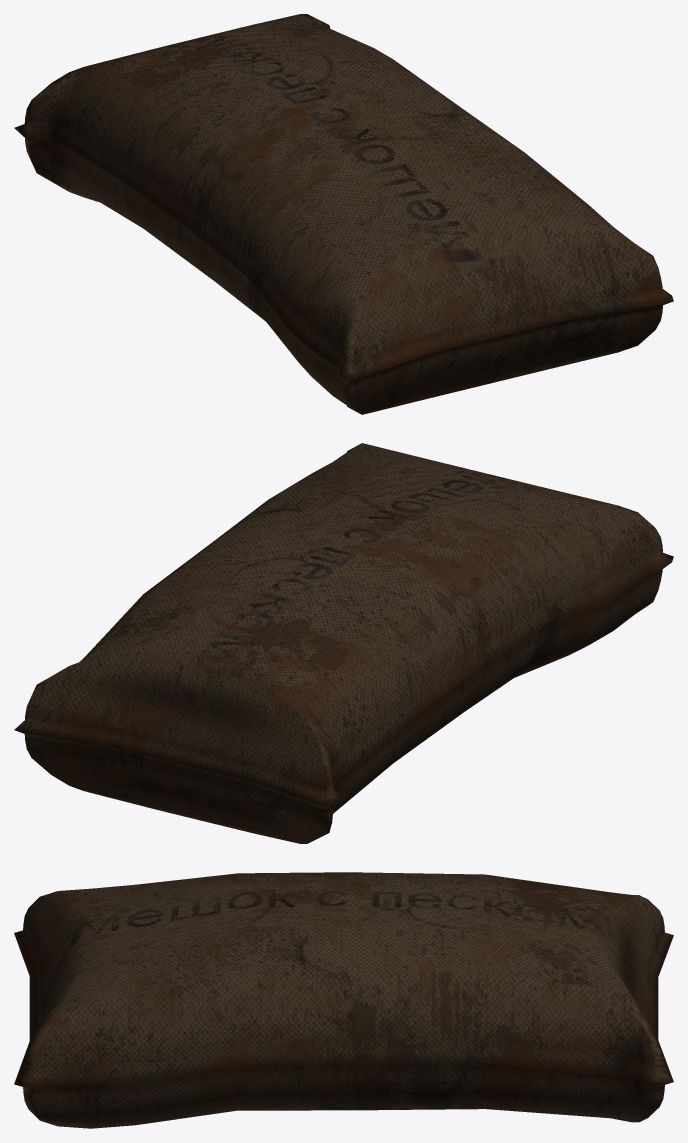
The model's file is Model_Sandbag.glb.
The picture shows the model from 3 angles, top to bottom: view 1: azimuth 30°, elevation 25°; view 2: azimuth 150°, elevation 25°; view 3: azimuth 270°, elevation 25°; orthographic projection. The views are drawn at different scales.
Parts seen in each view (by area): view 1: iso_PR_SandBag; view 2: iso_PR_SandBag; view 3: iso_PR_SandBag.
Part boxes in pixels (<box>): iso_PR_SandBag: <box>14,14,673,414</box>; iso_PR_SandBag: <box>14,443,673,843</box>; iso_PR_SandBag: <box>14,872,673,1128</box>.
Size of the model in its own units: 0.4666 by 0.2533 by 0.837.
1 material, 1 textured.
